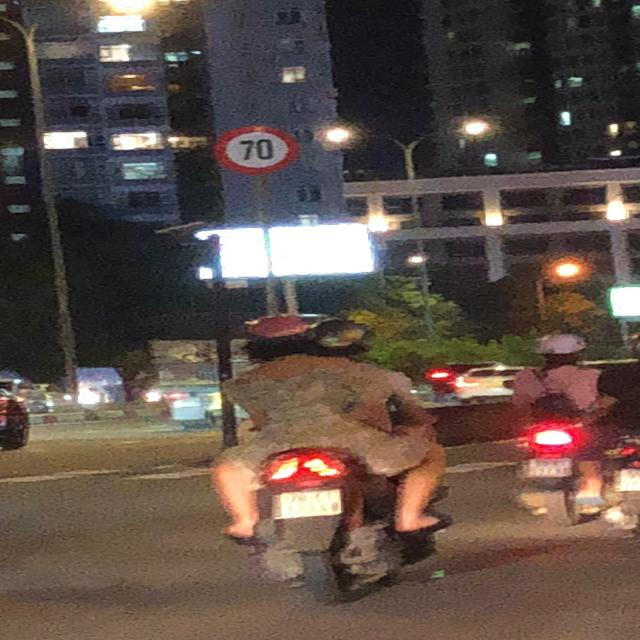Bien bao toc do toi da cho phep: (205, 119, 305, 175)
